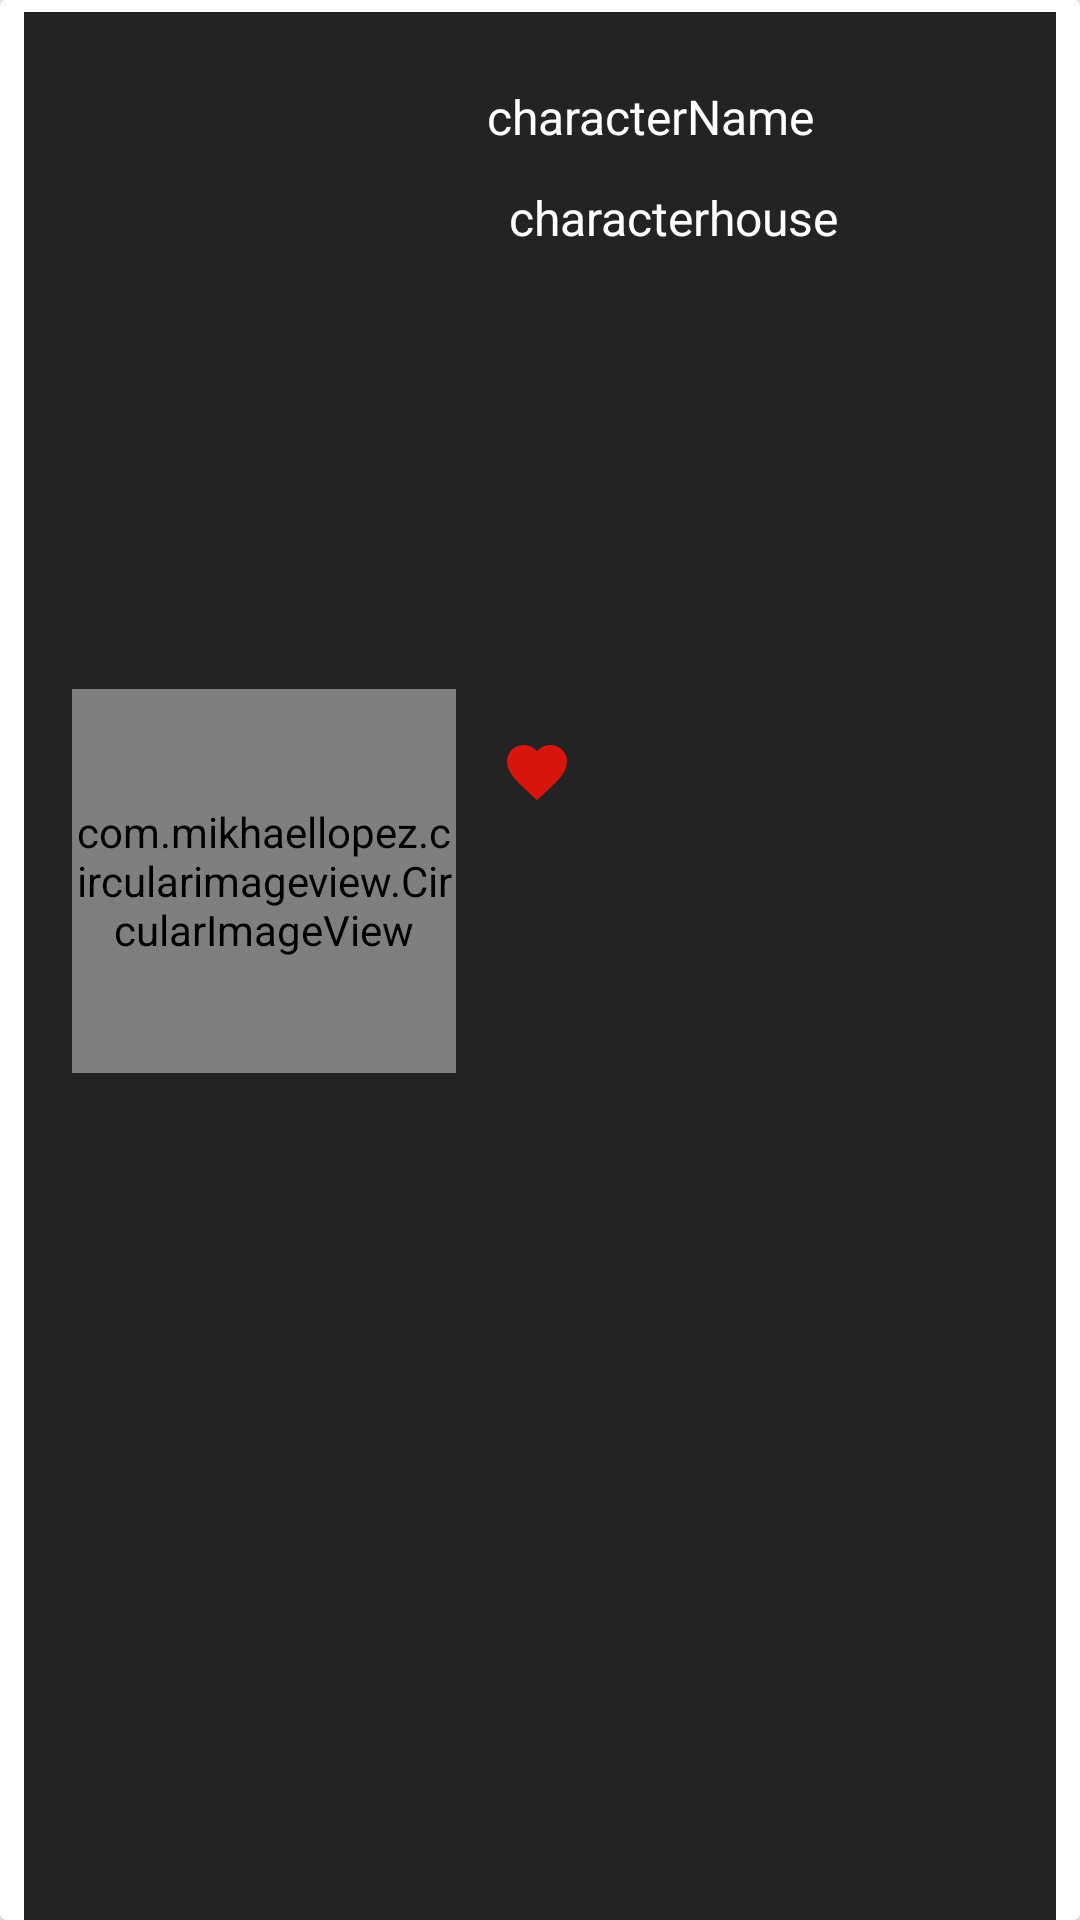

Where to tap for icons on this 1080w x 1920h app screen, as (x=x, y=y):
favorite: (x=537, y=772)
